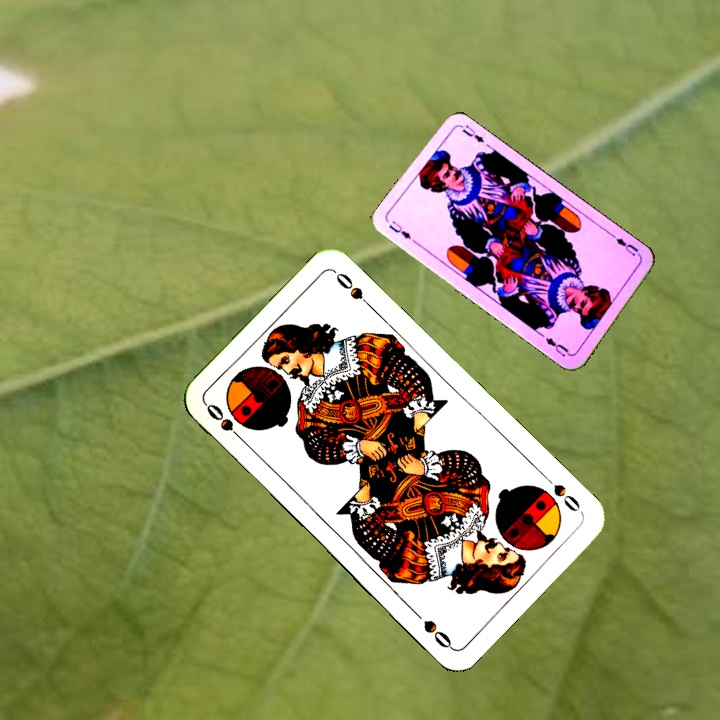EU: (612, 234, 643, 260), (385, 216, 414, 242)
SO: (202, 399, 249, 446), (539, 470, 585, 516)
